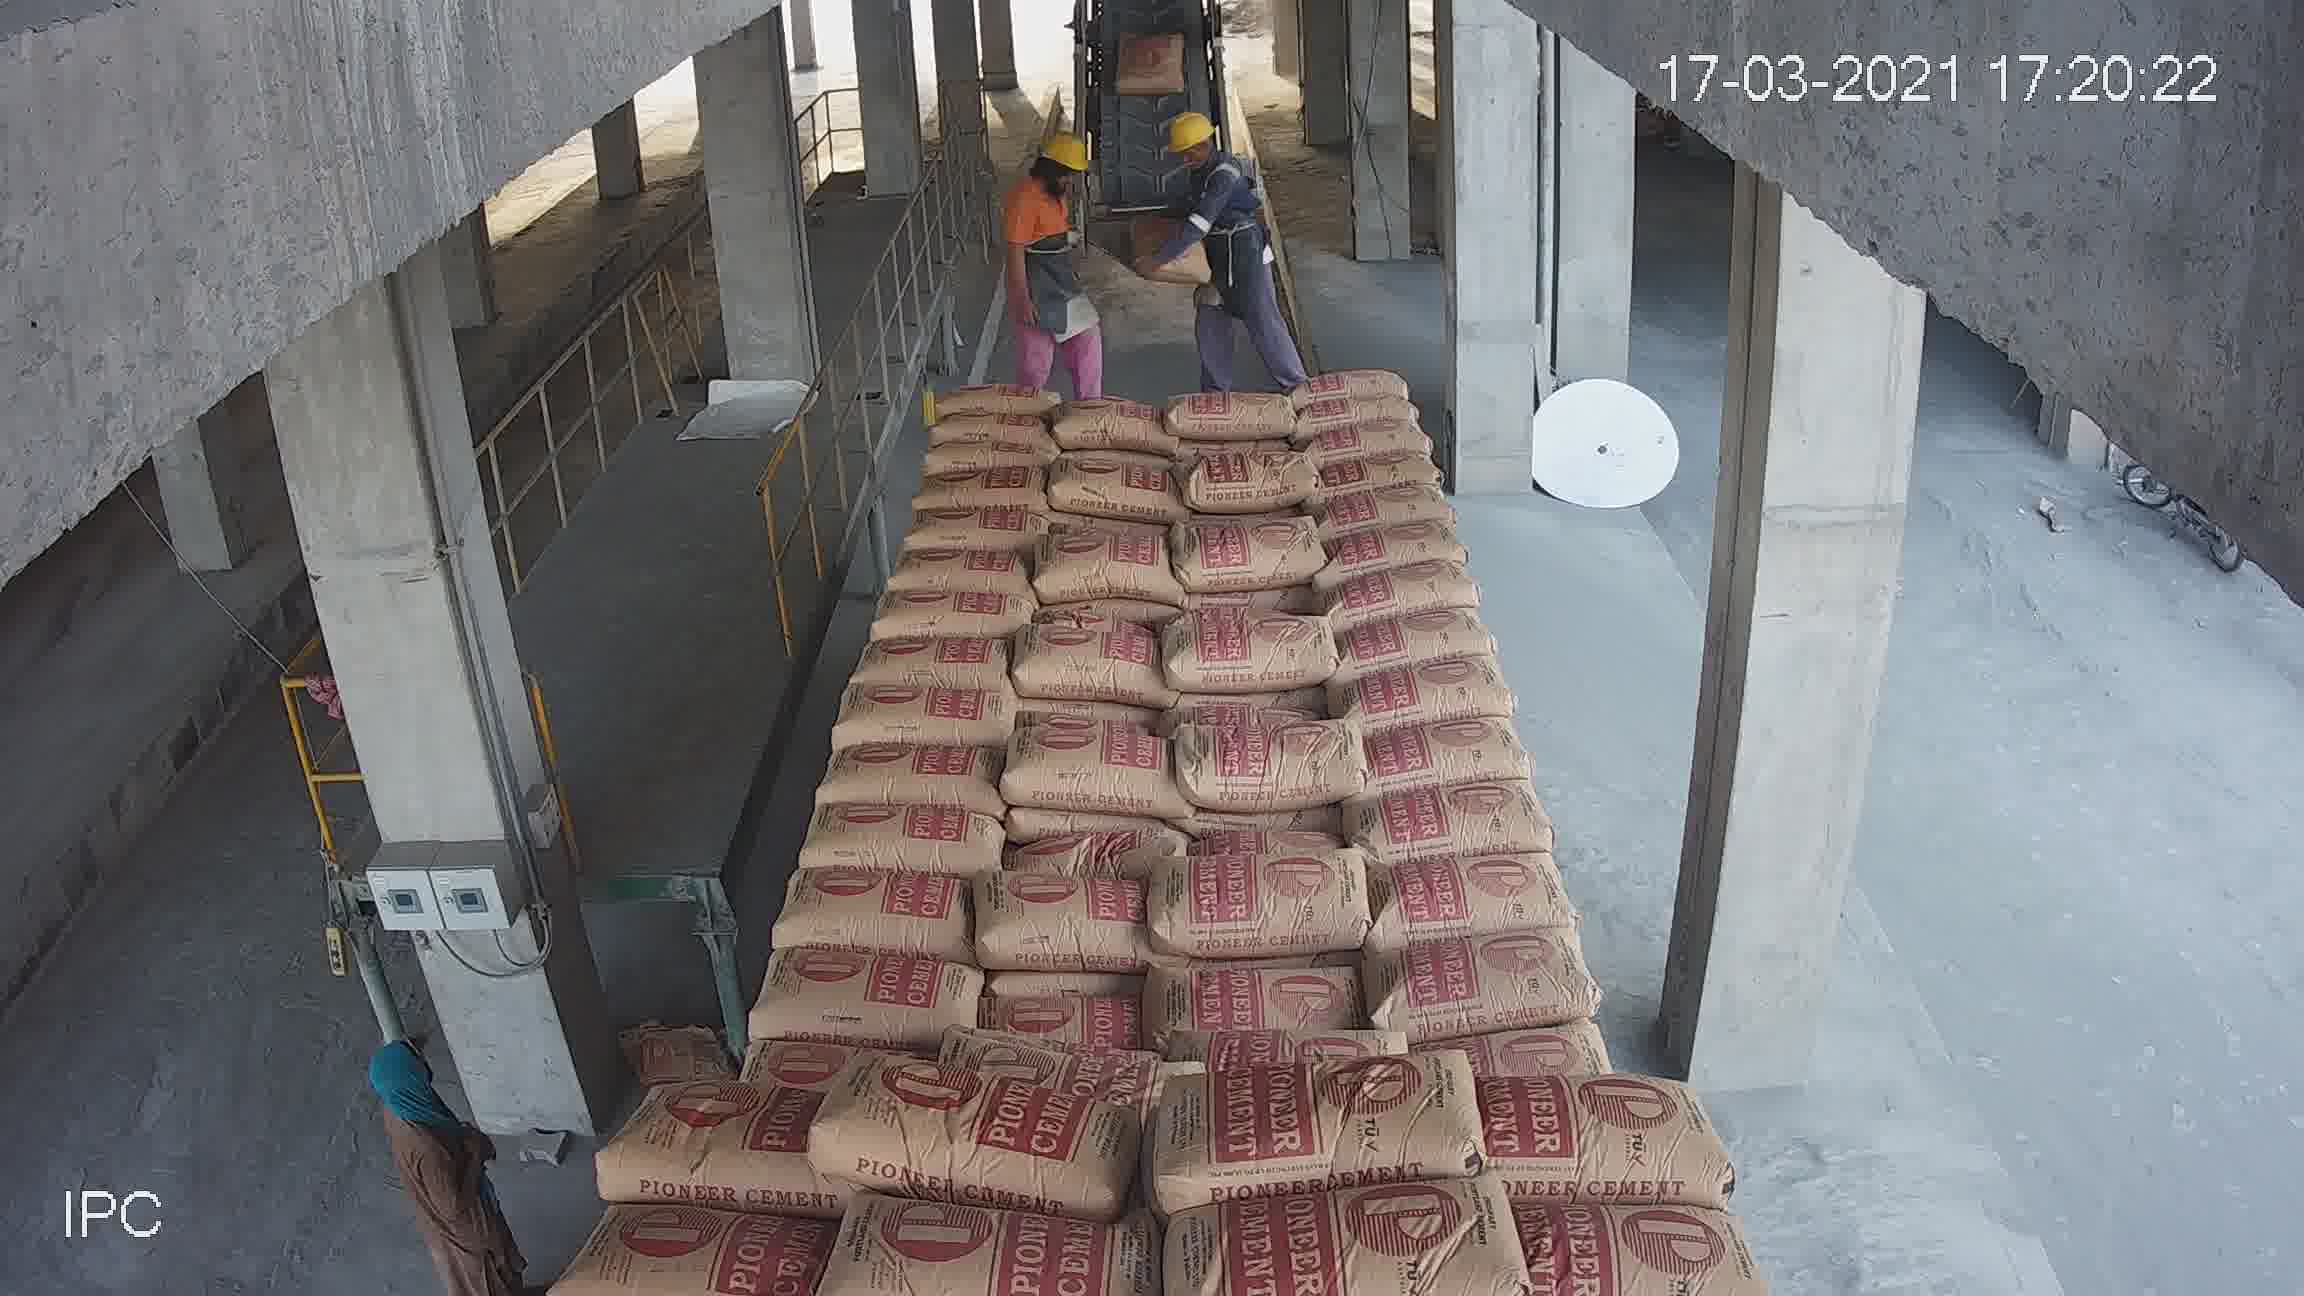bag: (1116, 606, 1302, 798), (1078, 146, 1230, 271)
bag_h: (1131, 1032, 1495, 1193), (1163, 918, 1465, 1092), (612, 926, 904, 1078), (824, 1060, 1112, 1212), (1176, 1161, 1513, 1287), (1396, 962, 1704, 1090), (877, 951, 1161, 1074), (820, 1195, 1161, 1296), (597, 1076, 839, 1212), (1487, 1082, 1737, 1207), (932, 878, 1223, 961), (1502, 1185, 1787, 1268), (1135, 836, 1332, 942), (562, 1198, 826, 1269), (1413, 900, 1608, 983), (758, 855, 968, 930), (1388, 628, 1519, 723), (786, 802, 956, 869), (1361, 722, 1537, 777), (704, 919, 916, 964), (1407, 796, 1546, 858), (1063, 790, 1165, 872), (1426, 847, 1554, 911), (1374, 595, 1492, 660), (1362, 562, 1483, 619), (1362, 519, 1484, 574), (813, 750, 924, 810), (831, 687, 924, 756), (1320, 335, 1412, 389), (1366, 446, 1451, 494), (1342, 377, 1424, 426), (1309, 313, 1400, 354), (1367, 483, 1438, 533), (1364, 427, 1442, 456)
belt: (986, 43, 1294, 557)
